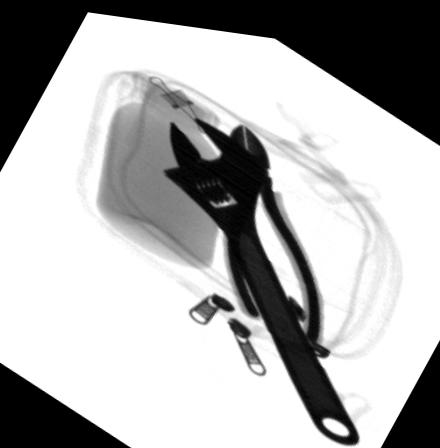Pliers: (222, 115, 320, 336)
Wrench: (159, 109, 364, 436)
